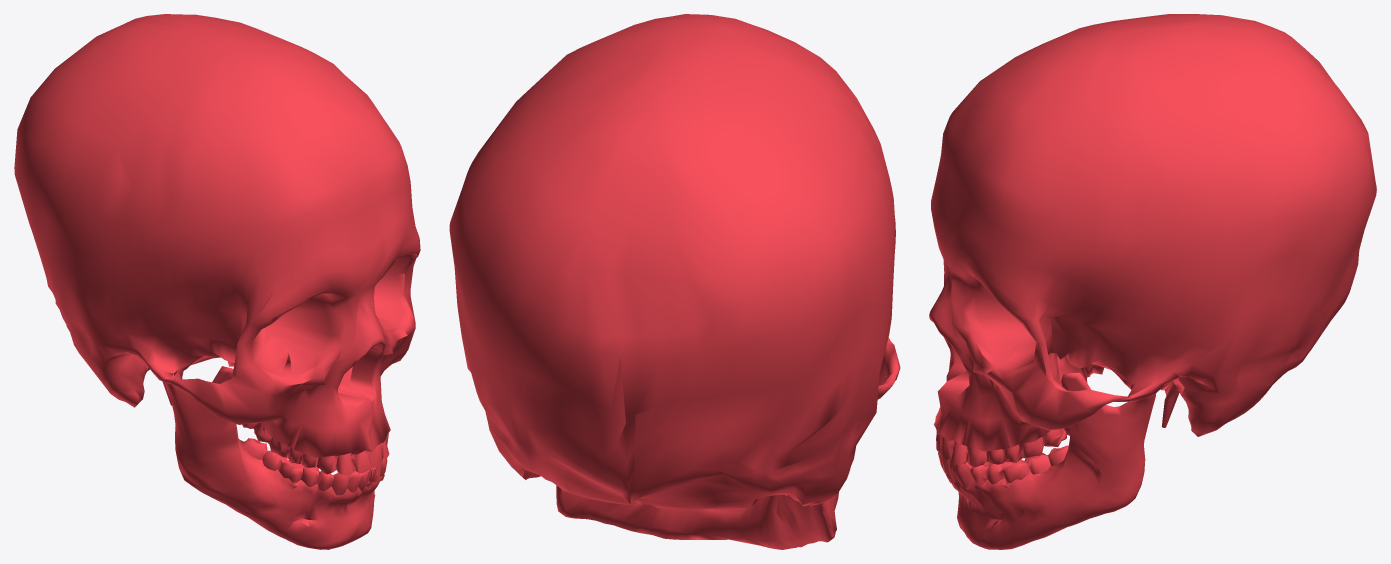
Rendered from skull_default.gltf.
3 renders of one model, left to right at view 1: azimuth 30°, elevation 25°; view 2: azimuth 150°, elevation 25°; view 3: azimuth 270°, elevation 25°, orthographic. The views are drawn at different scales.
Parts seen in each view (by area): view 1: skull; view 2: skull; view 3: skull.
Boxes of the visible parts, bbox=[...] form: skull: bbox=[14, 14, 420, 549]; skull: bbox=[449, 14, 900, 549]; skull: bbox=[929, 14, 1376, 549].
Bounding box in the file's own units: 5.23 × 7.32 × 6.14.
